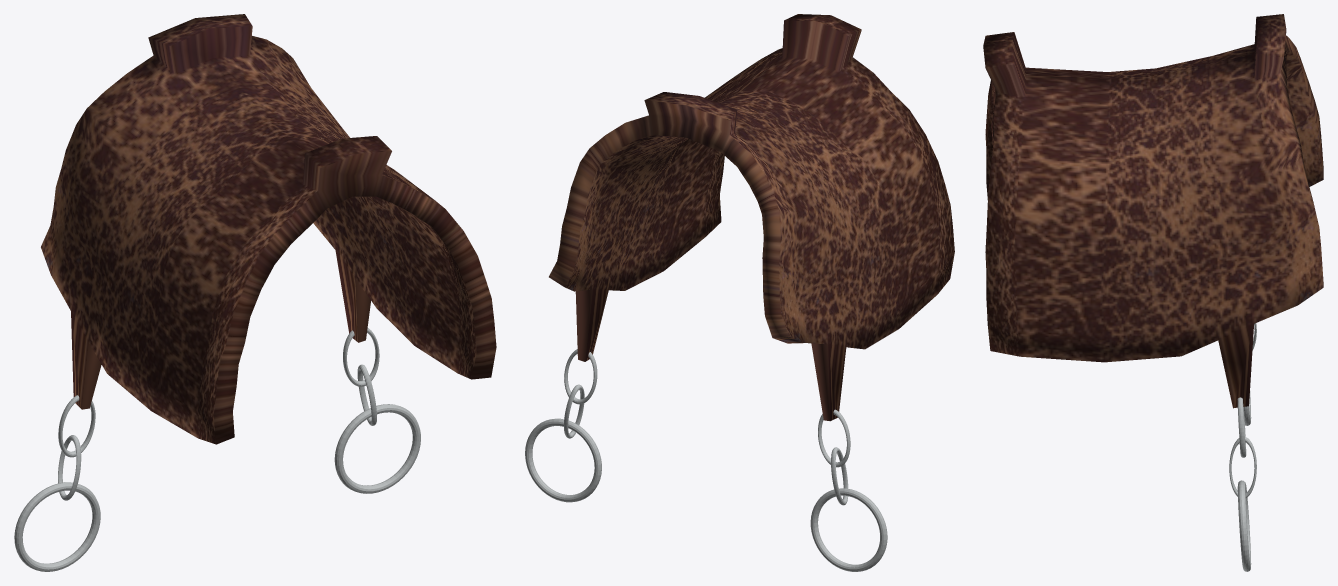
File: saddle.glb
3 renders of one model, left to right at view 1: azimuth 30°, elevation 25°; view 2: azimuth 150°, elevation 25°; view 3: azimuth 270°, elevation 25°, orthographic. The views are drawn at different scales.
Parts seen in each view (by area): view 1: Horse.001; view 2: Horse.001; view 3: Horse.001.
Part boxes in pixels (x1,y1,x2,y2): Horse.001: [14, 14, 496, 571]; Horse.001: [525, 14, 954, 571]; Horse.001: [983, 14, 1323, 571].
Size of the model in its own units: 1.26 by 1.48 by 0.9843.
Materials: 2 (2 with a texture image).
